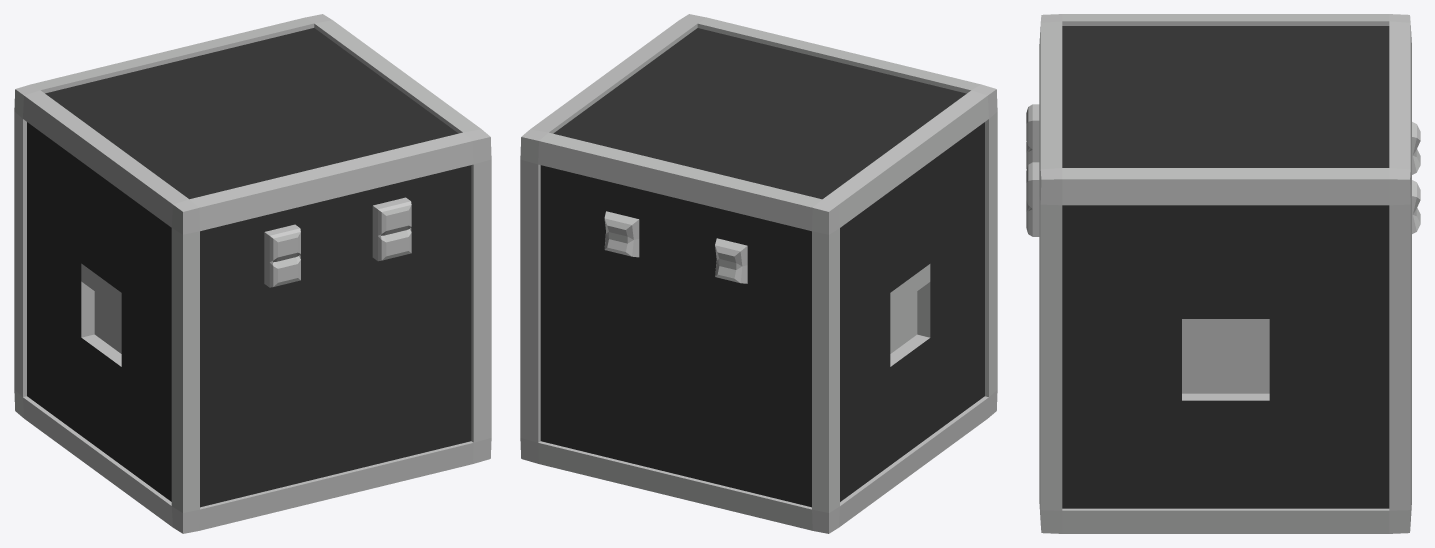
The model's file is MediumBox.fbx.
3 views of the same model, side by side, from view 1: azimuth 30°, elevation 25°; view 2: azimuth 150°, elevation 25°; view 3: azimuth 270°, elevation 25° (orthographic). The views are drawn at different scales.
Visible parts, largest first — view 1: Cube.005; view 2: Cube.005; view 3: Cube.005.
Part boxes in pixels (x1,y1,x2,y2): Cube.005: (14,14,491,533); Cube.005: (520,14,997,533); Cube.005: (1026,14,1420,533).
Bounding box in the file's own units: 100 × 100 × 100.
